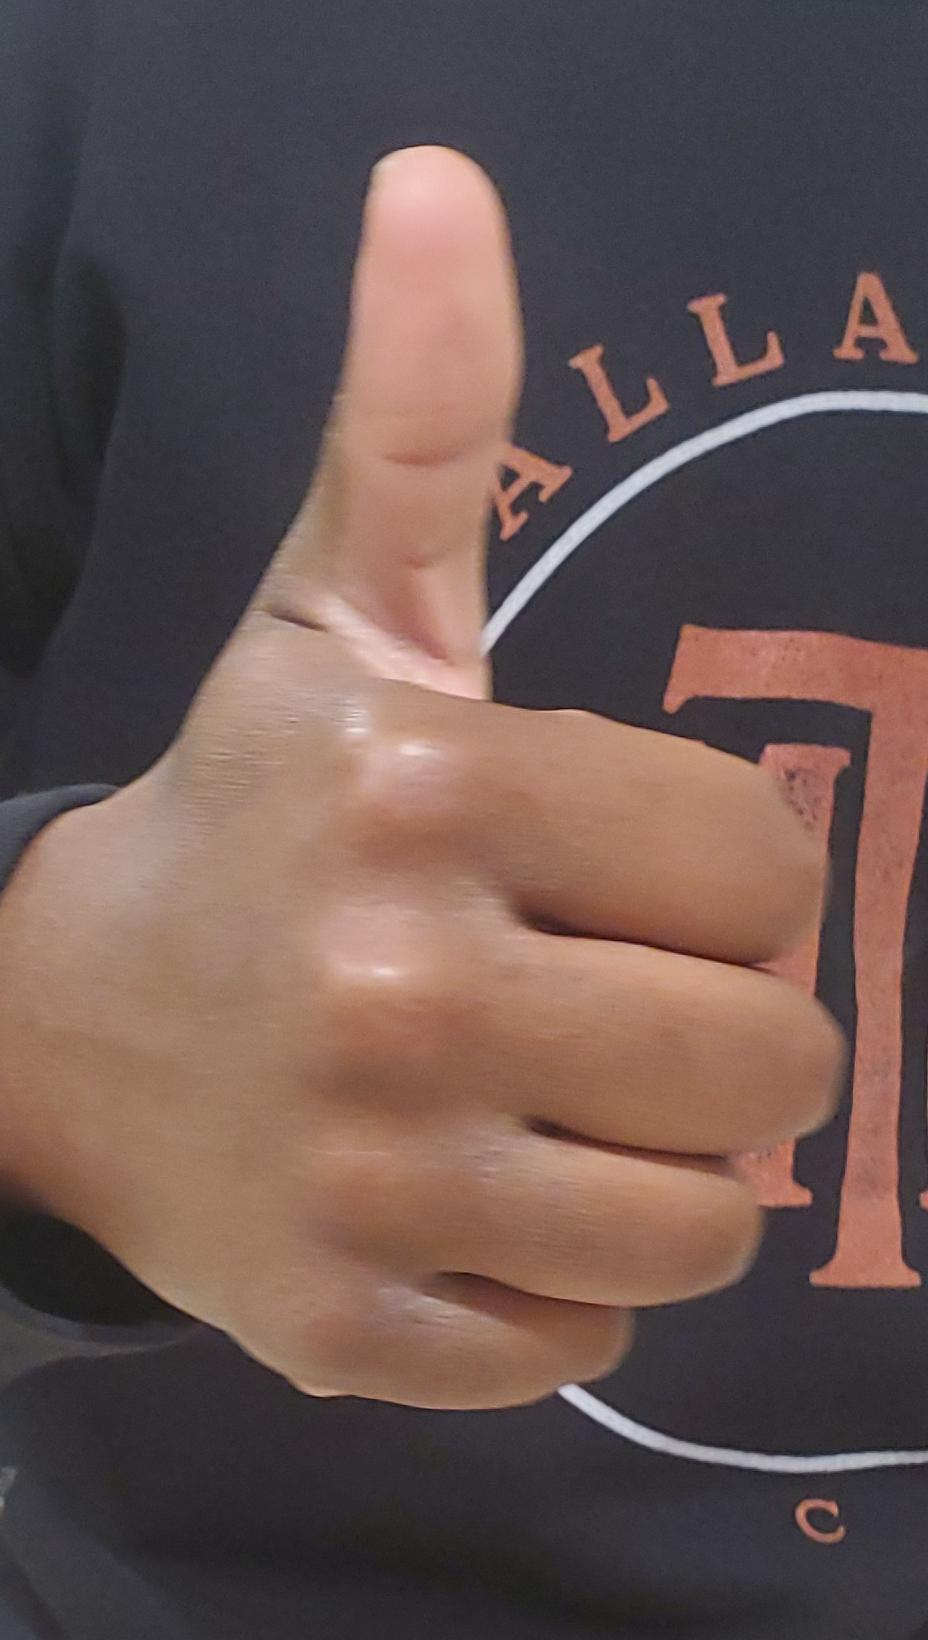up: (0, 1, 928, 1640)
